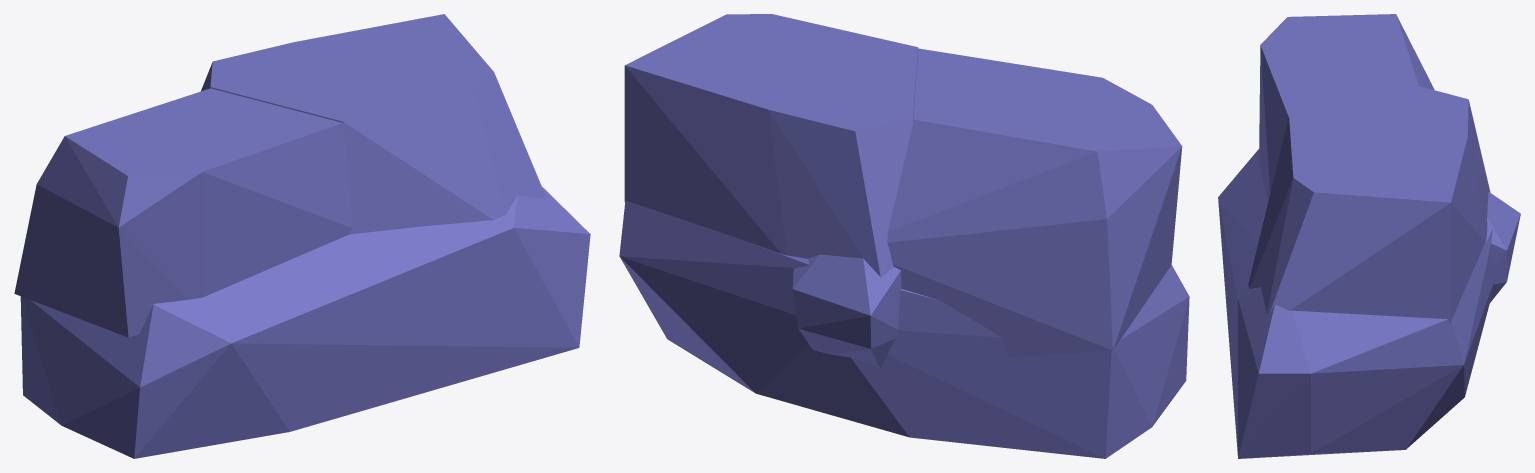
The model's file is Cliff_Sediment_02_Collider_01.FBX.
3 views of the same model, side by side, from view 1: azimuth 30°, elevation 25°; view 2: azimuth 150°, elevation 25°; view 3: azimuth 270°, elevation 25° (orthographic). The views are drawn at different scales.
Visible parts, largest first — view 1: COLLIDER3, COLLIDER1, COLLIDER2; view 2: COLLIDER1, COLLIDER3, COLLIDER2, COLLIDER4; view 3: COLLIDER2, COLLIDER3, COLLIDER1, COLLIDER4.
Boxes of the visible parts, left/top/right/bottom form: COLLIDER3: left=20, top=187, right=590, bottom=458; COLLIDER1: left=14, top=88, right=352, bottom=337; COLLIDER2: left=201, top=14, right=545, bottom=234; COLLIDER1: left=887, top=48, right=1182, bottom=357; COLLIDER3: left=619, top=200, right=1189, bottom=458; COLLIDER2: left=624, top=14, right=918, bottom=277; COLLIDER4: left=792, top=254, right=901, bottom=368; COLLIDER2: left=1248, top=86, right=1490, bottom=323; COLLIDER3: left=1218, top=149, right=1494, bottom=458; COLLIDER1: left=1259, top=14, right=1434, bottom=201; COLLIDER4: left=1487, top=192, right=1520, bottom=302.
Bounding box in the file's own units: 427 × 235 × 242.
